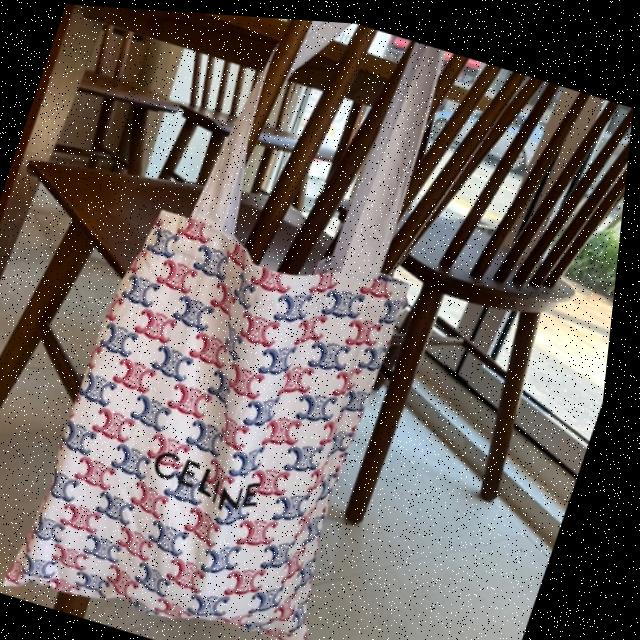ecobag: (0, 2, 522, 640)
